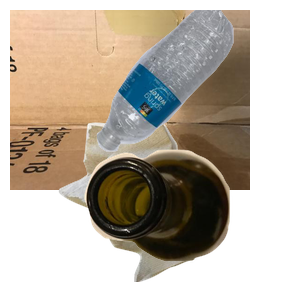cardboard: (10, 10, 250, 190)
glass: (82, 147, 300, 300)
plastic: (94, 10, 300, 154)
trash: (56, 120, 247, 300)
